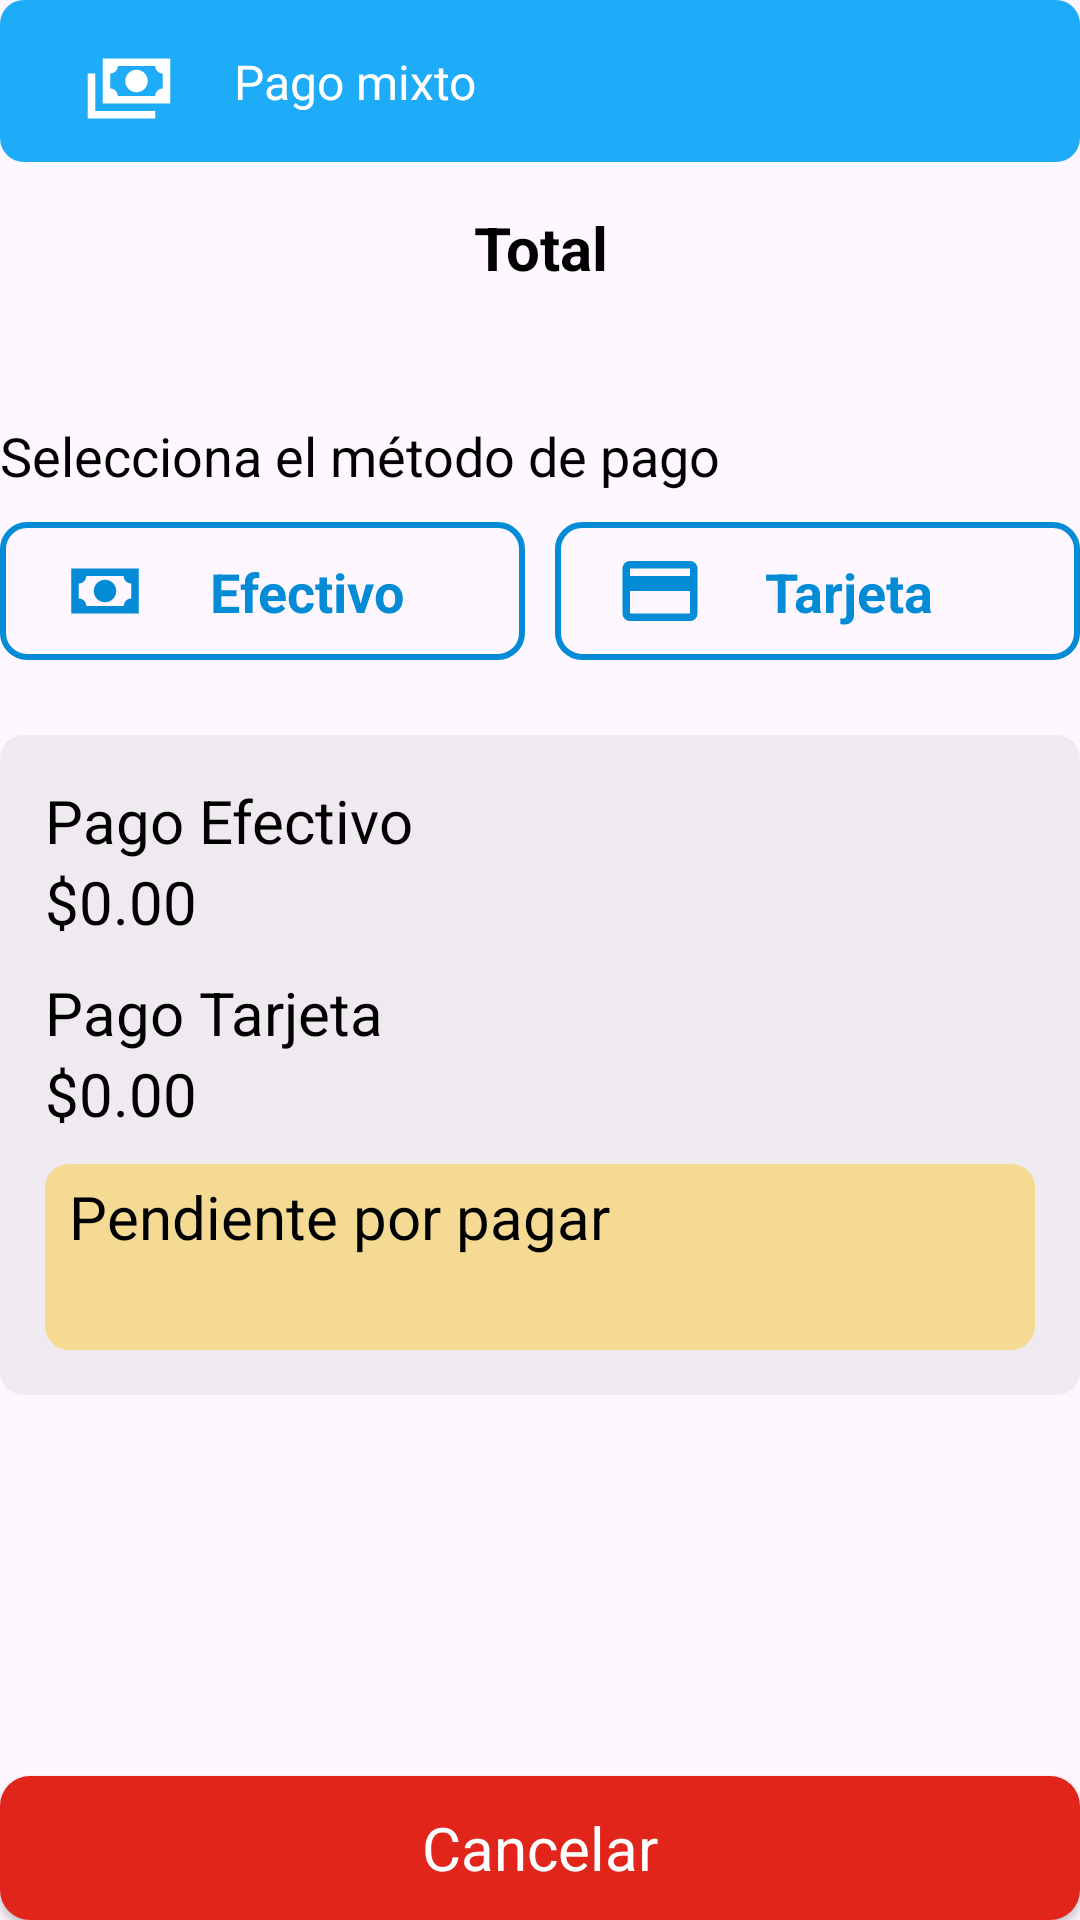

Where to tap for icons on this 1080*1920 app screen, as (x=x, y=y):
mixed payment: (x=129, y=88)
